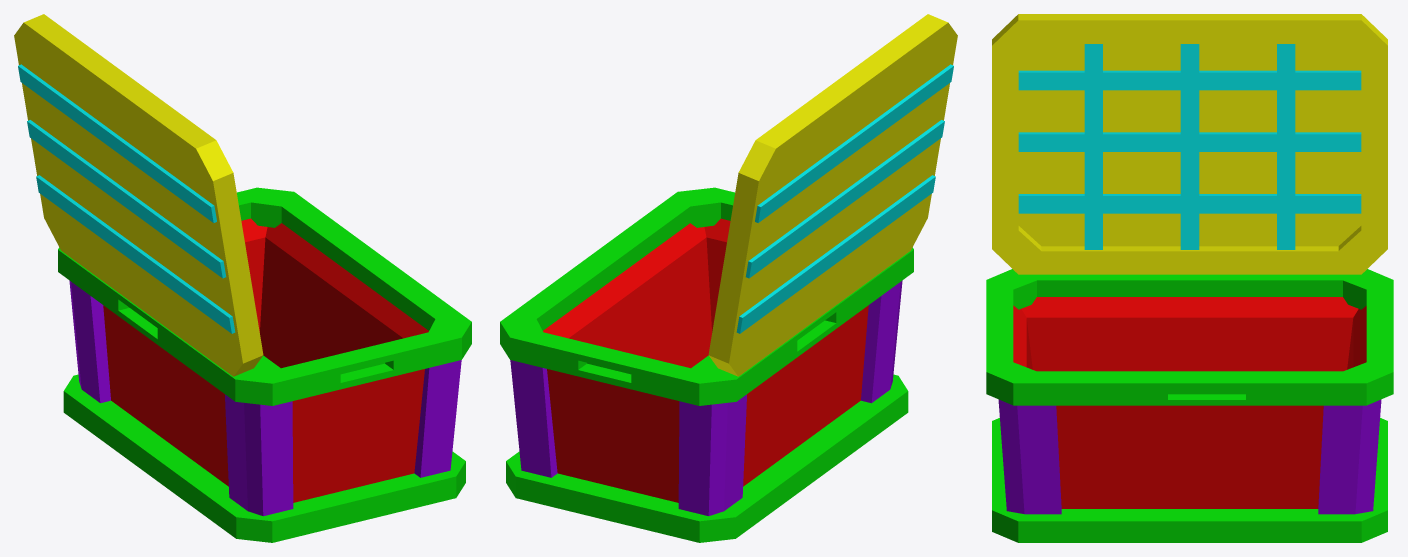
Rendered from BOX_TOY_FBX.fbx.
3 views of the same model, side by side, from view 1: azimuth 30°, elevation 25°; view 2: azimuth 150°, elevation 25°; view 3: azimuth 270°, elevation 25° (orthographic).
Visible parts, largest first — view 1: polySurface96; view 2: polySurface96; view 3: polySurface96.
Part boxes in pixels (<box>): polySurface96: <box>14,14,471,542</box>; polySurface96: <box>500,14,957,542</box>; polySurface96: <box>986,14,1393,542</box>.
Bounding box in the file's own units: 9.8 × 13.83 × 12.72.
